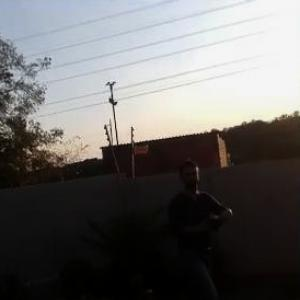follow: (162, 156, 239, 299)
